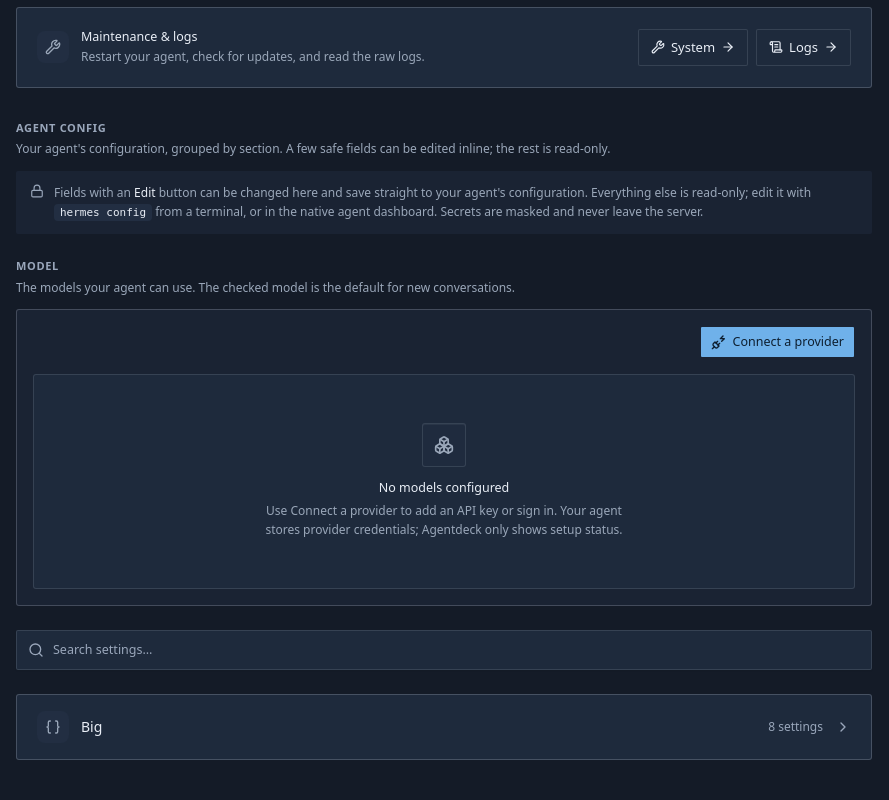
Test: SettingsPage › collapses large sections by default and toggles them open on click
(page scrolled)
Expected: the heading "Big" is shown, [81, 717, 102, 737]
Expected: the text "value-0" is not shown
Click the button "Big 8 settings".
click(53, 727)  # box [17, 695, 871, 759]
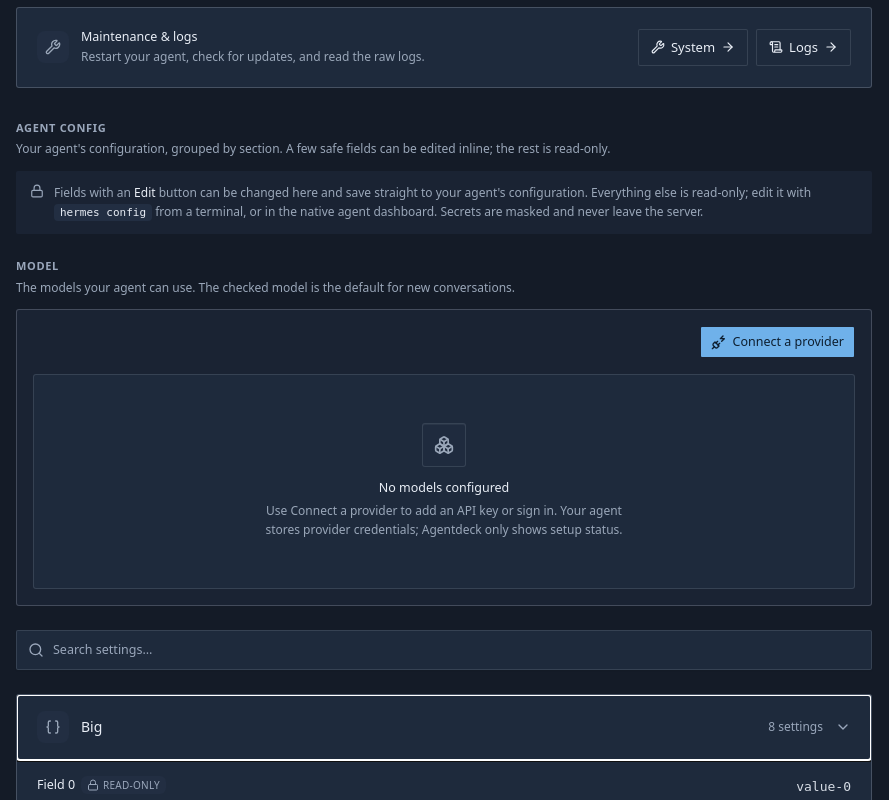
Expected: the button "Big 8 settings" is expanded, [17, 695, 871, 760]
Expected: the text "value-0" is shown, [796, 776, 851, 797]
